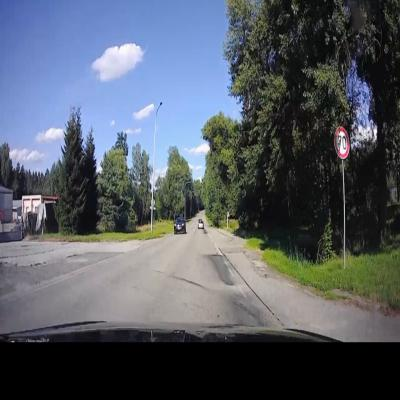clear-road: (0, 218, 283, 334)
